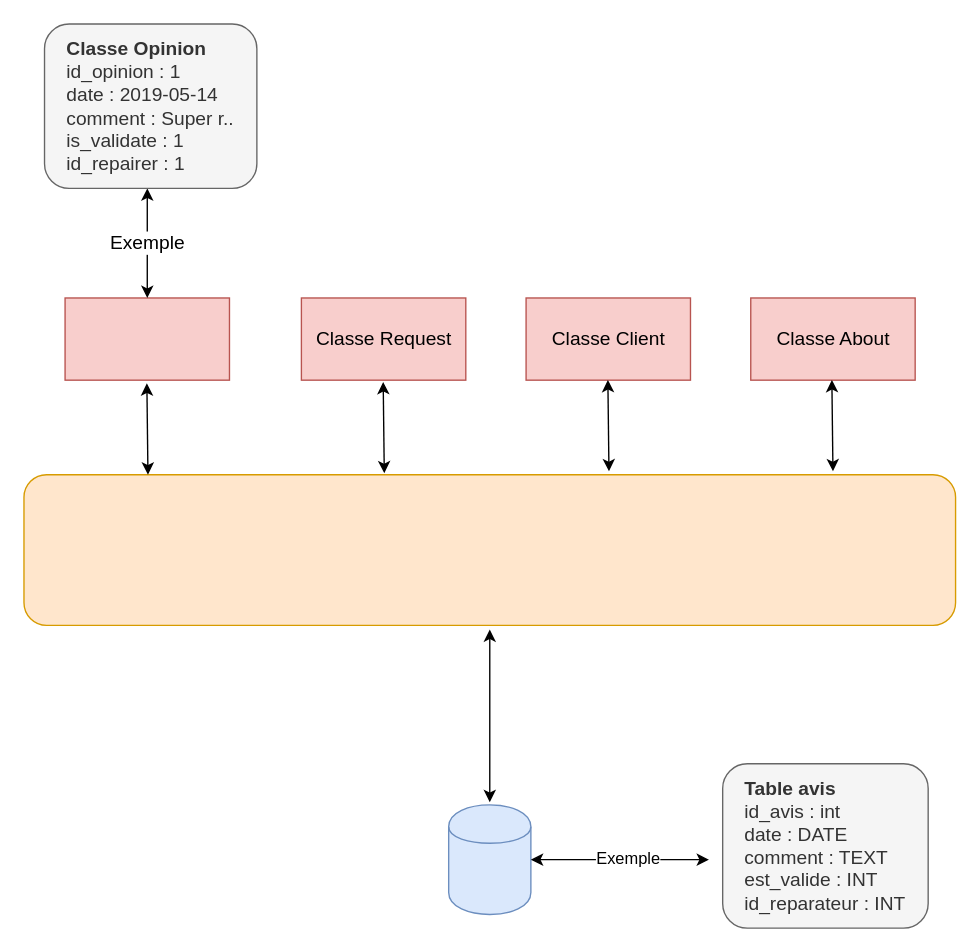
The diagram is 980 pixels wide and 952 high, and some of its shapes have lost their labels. Each missing label, with the box of its shape:
Base de données: (447, 804, 531, 914)
Classe Manager, Fonctions globales ,Fonctions de génération SQL: (23, 473, 956, 625)
Classe Opinion: (64, 297, 229, 380)
